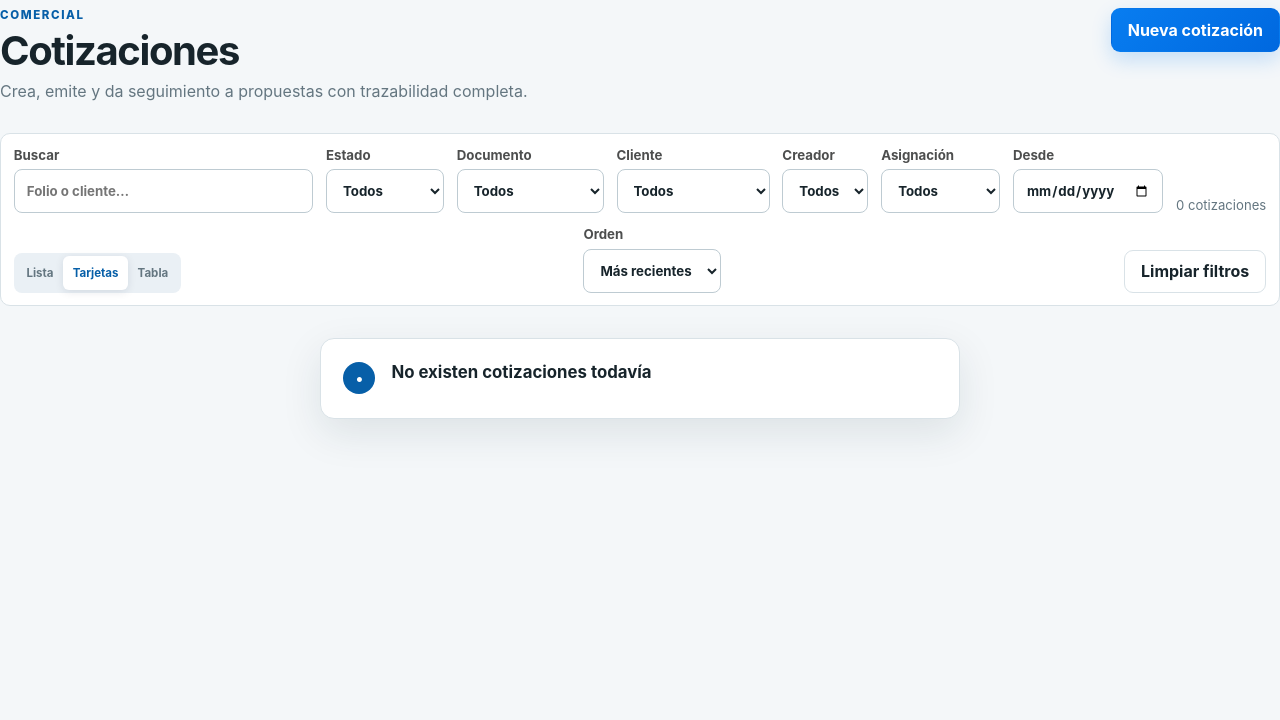
Test: QuotesPage independent creation › creates only independent drafts while keeping client required
The width and height of the screenshot is (1280, 720).
Click the button "Nueva cotización" at (1195, 30), box [1111, 8, 1279, 52]
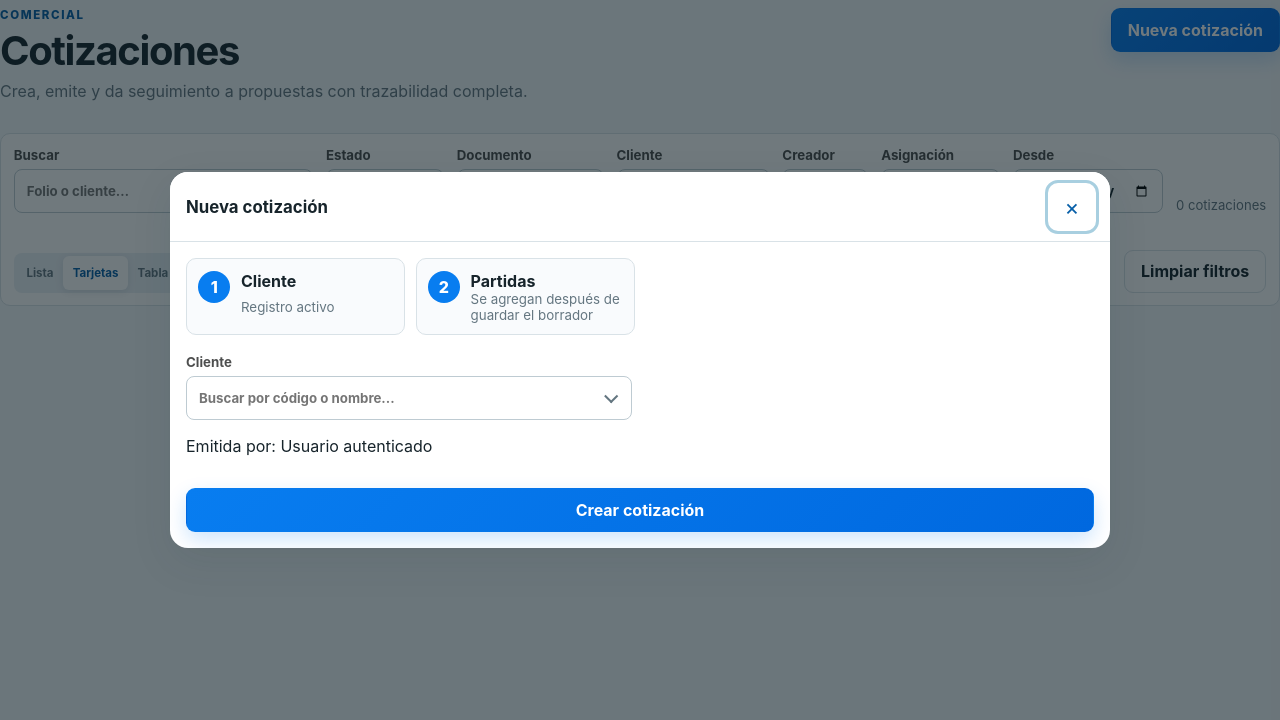
Click the search field with test id "clientId" at (409, 398), box [186, 376, 632, 420]
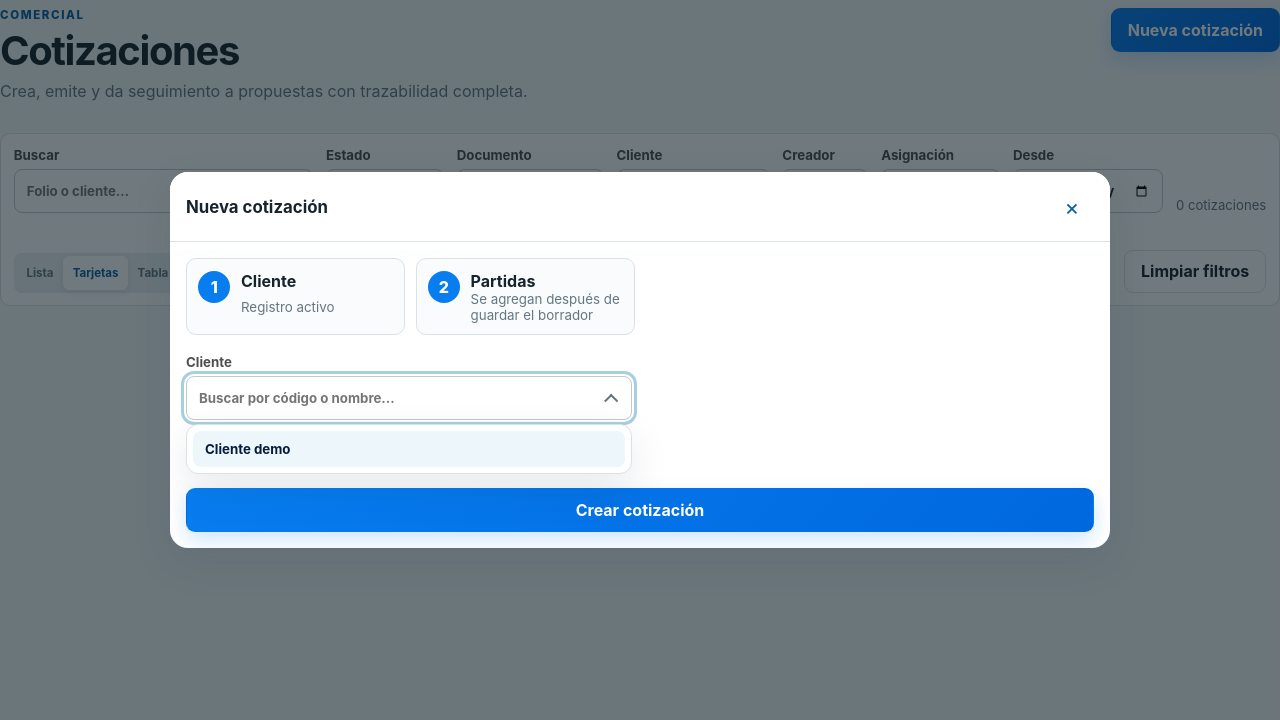
Check: the text "Emitida por: Usuario autenticado" is shown, box [186, 436, 432, 456]
Check: the button "Crear cotización" is shown, box [186, 488, 1094, 532]
Check: the option "Cliente demo" is shown, box [193, 431, 625, 467]
